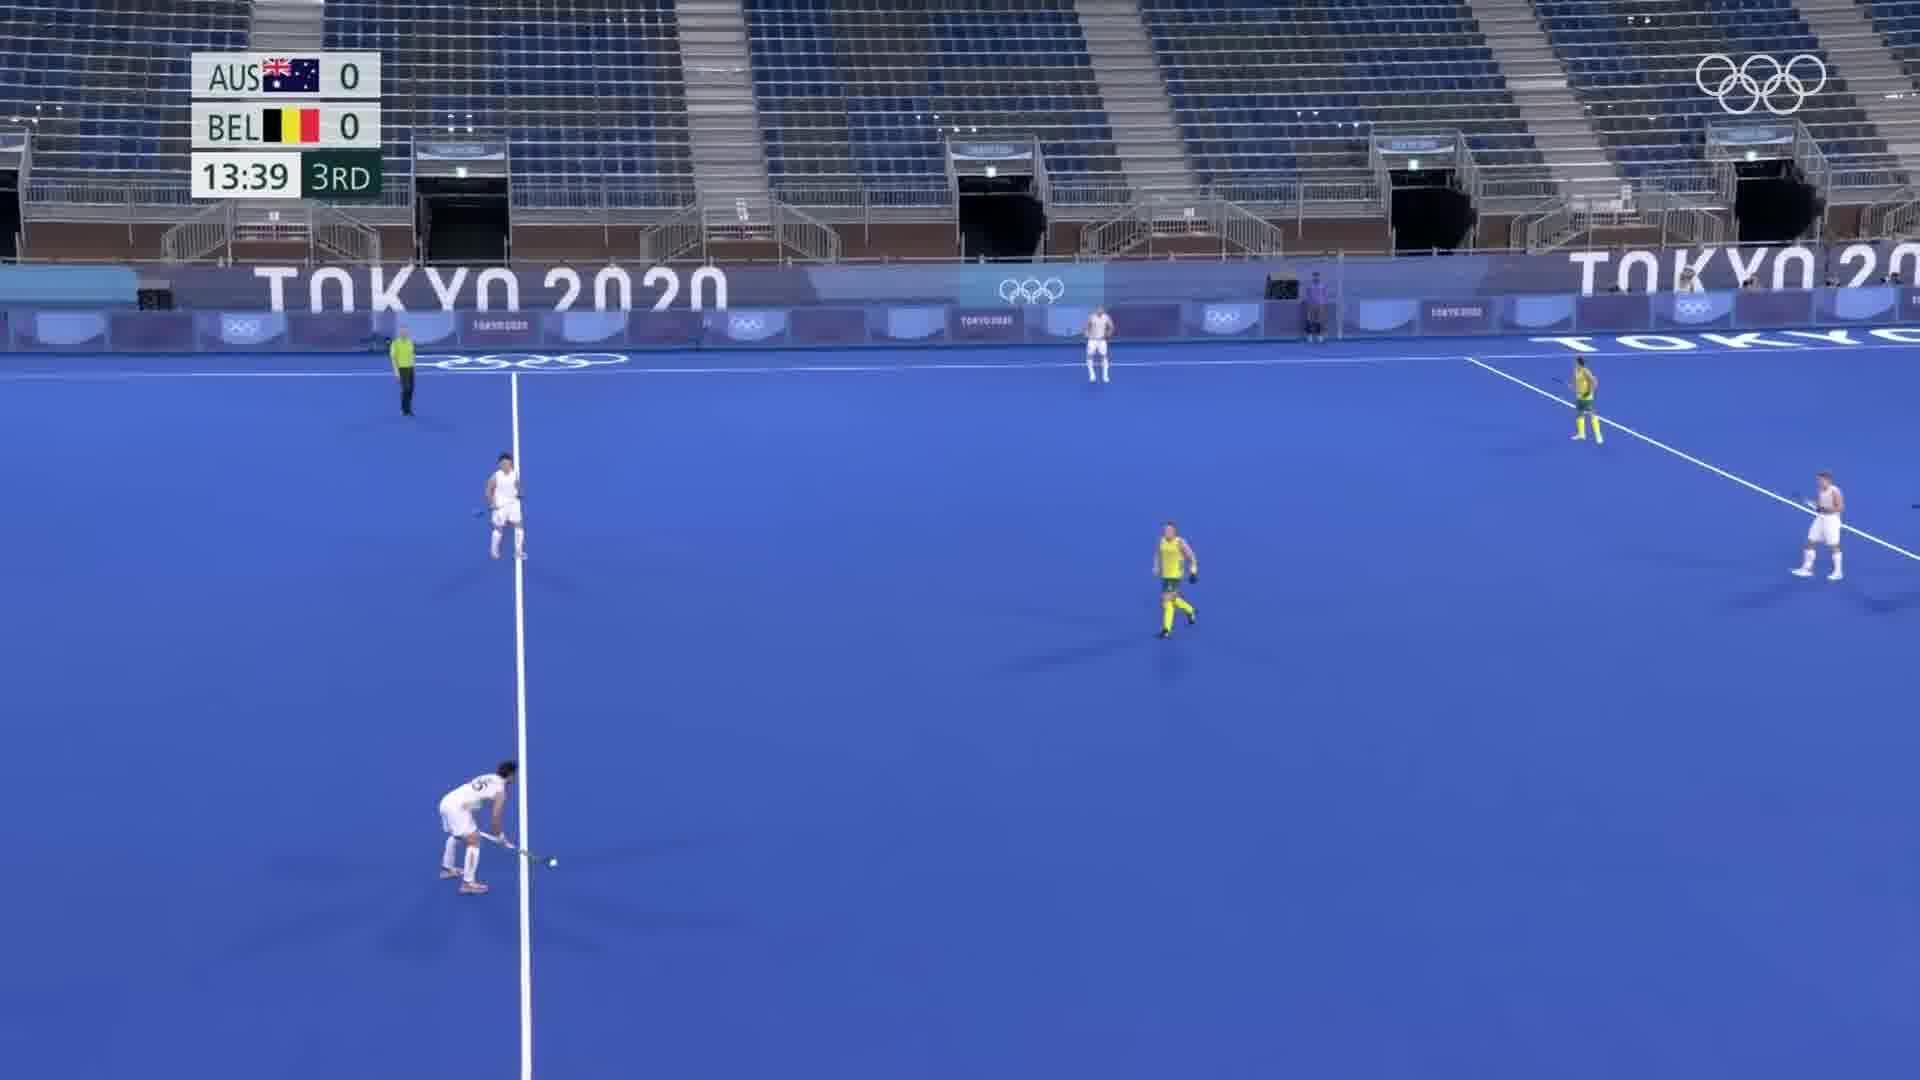ball: (543, 851, 563, 874)
